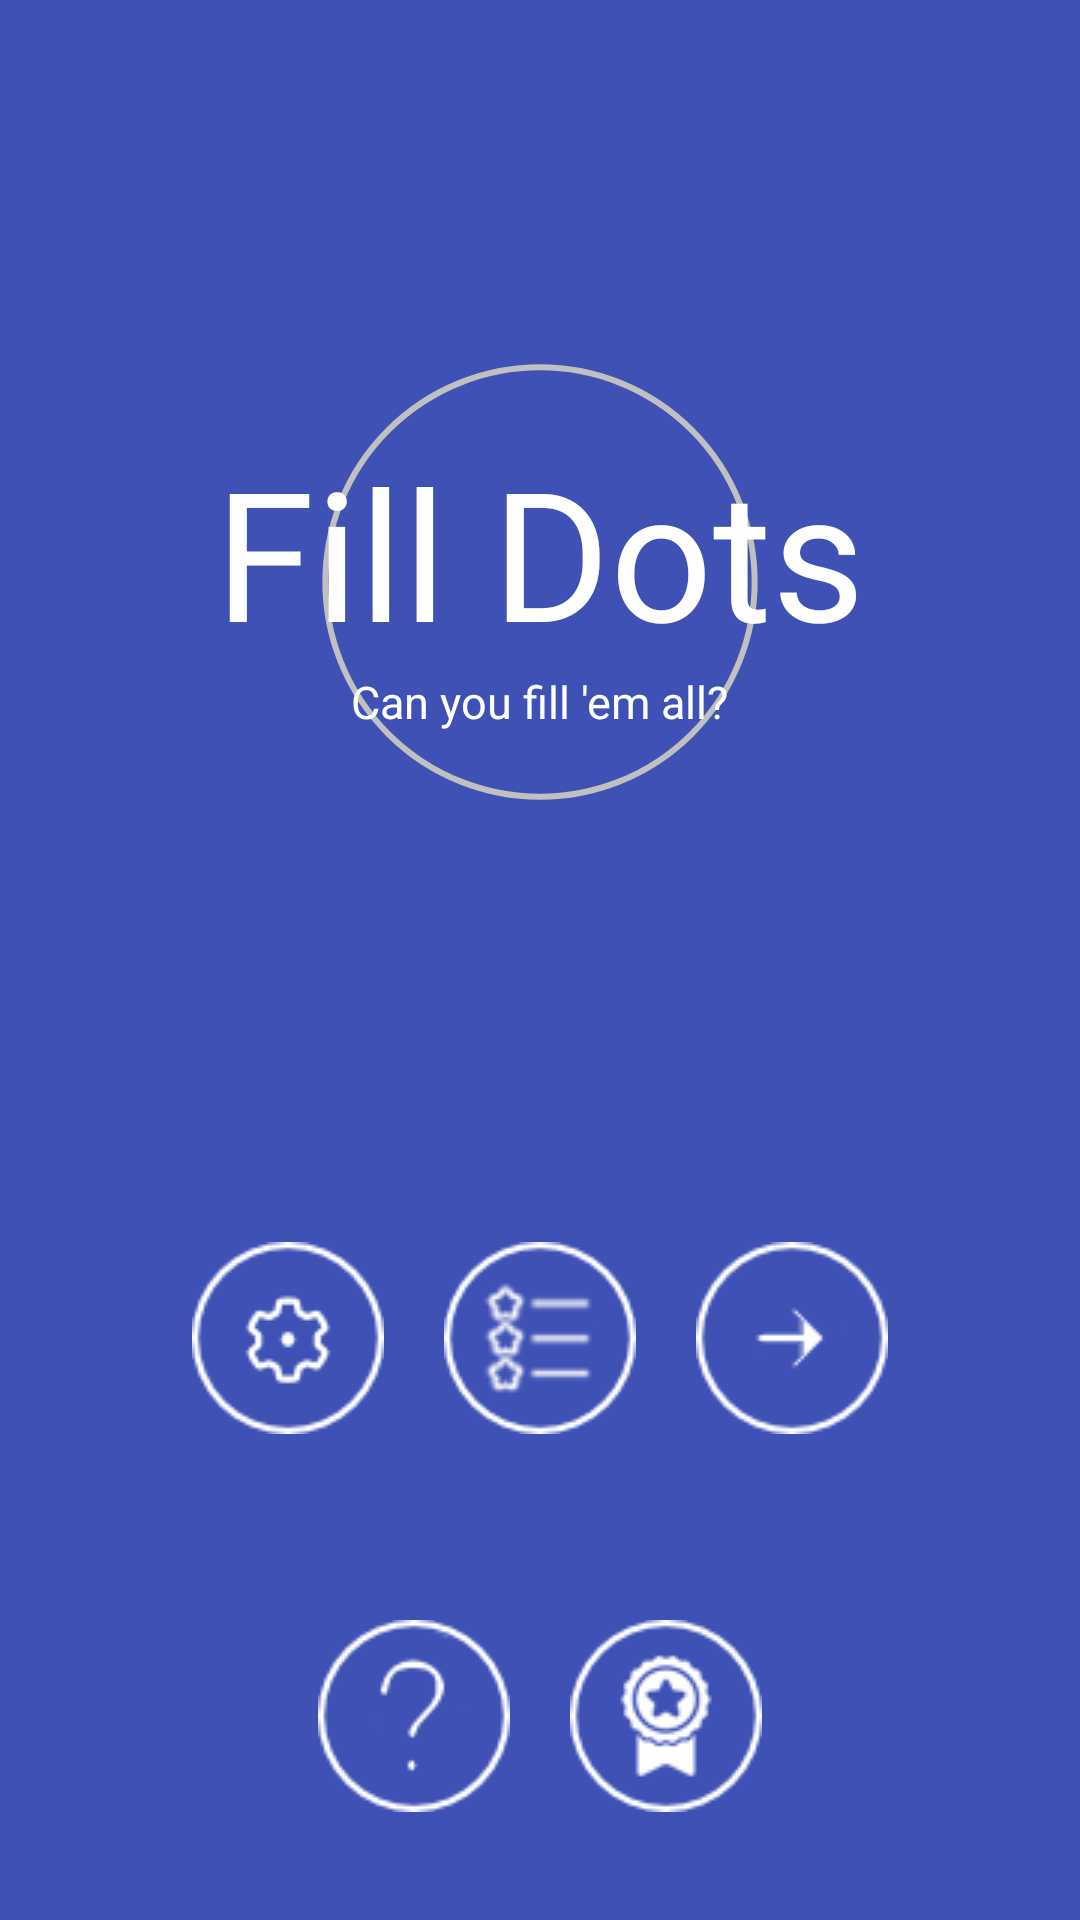

Screen size 1080px x 1920px. Icon name, then its center in pixels as [x,y]:
help: [414,1716]
scores: [540,1338]
